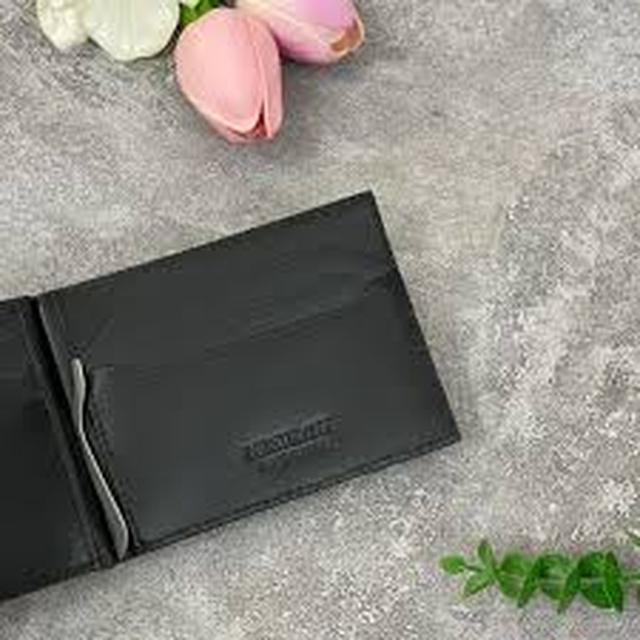wallet: (0, 168, 490, 607)
